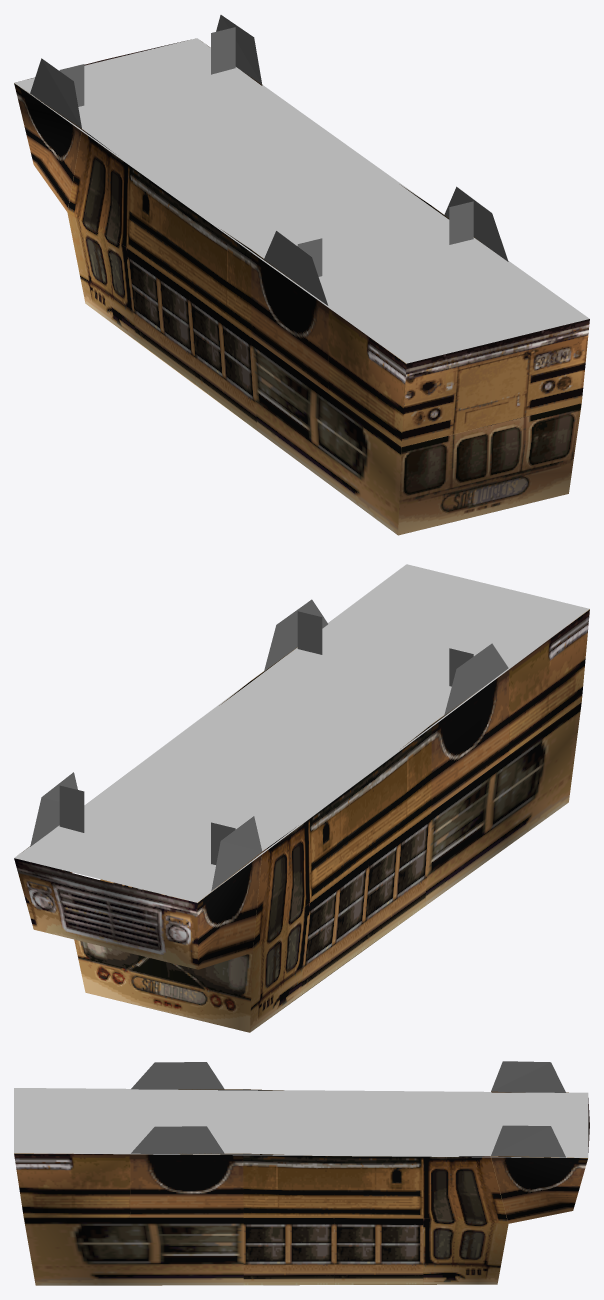
File: CHICAGO_model10_low.obj
3 renders of one model, top to bottom at view 1: azimuth 30°, elevation 25°; view 2: azimuth 150°, elevation 25°; view 3: azimuth 270°, elevation 25°, orthographic. The views are drawn at different scales.
Visible parts, largest first — view 1: CHICAGO_model10_low; view 2: CHICAGO_model10_low; view 3: CHICAGO_model10_low.
Boxes of the visible parts, x1,y1,x2,y2 form: CHICAGO_model10_low: (14,15,589,535); CHICAGO_model10_low: (14,564,589,1032); CHICAGO_model10_low: (14,1061,589,1285).
Bounding box in the file's own units: 354 × 404 × 1302.
